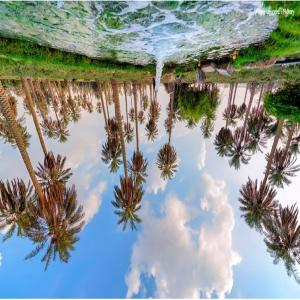palm tree: (238, 176, 278, 234)
